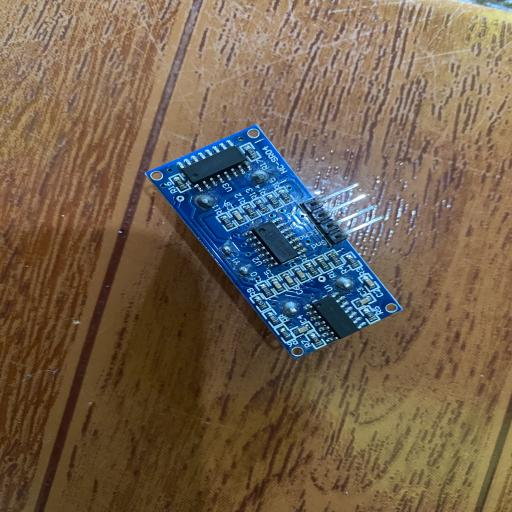Ultrasonic Sensor: (144, 123, 404, 361)
